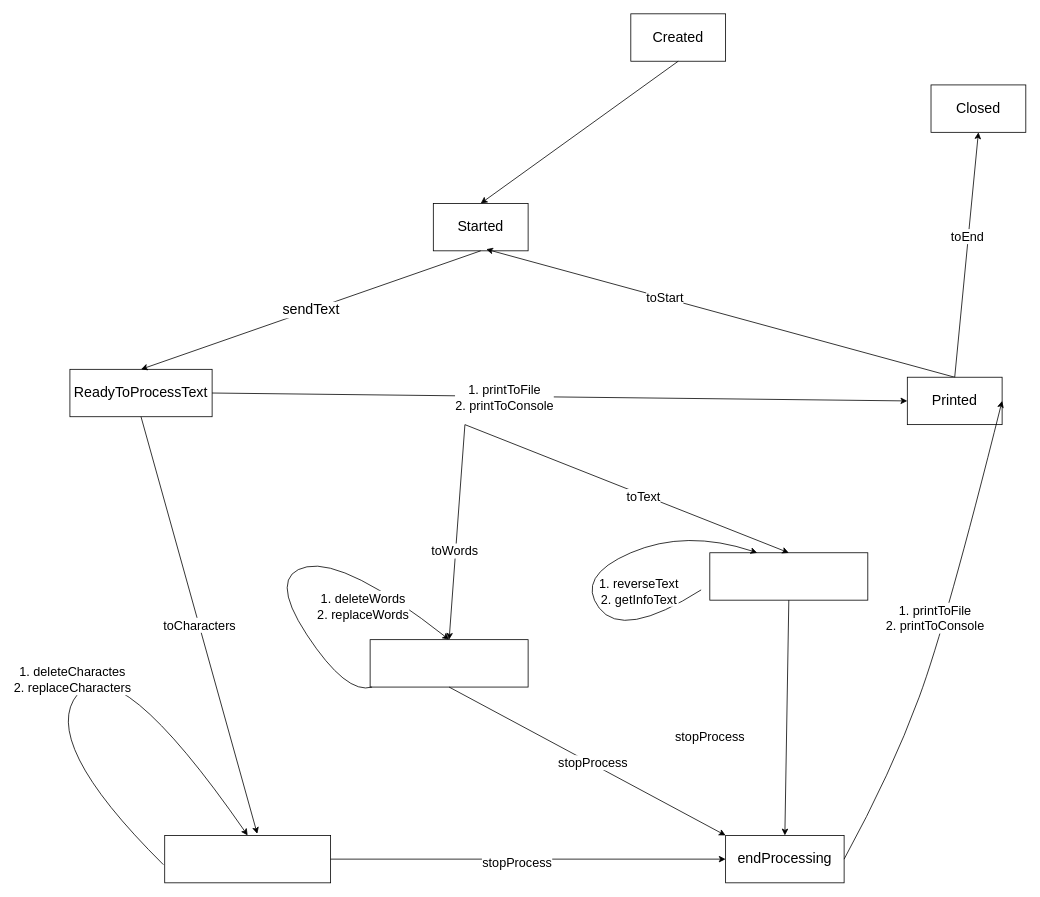
The diagram is 1040 pixels wide and 897 high, and some of its shapes have lost their labels. Here are the shapes that lost their labels. From the top down, the centre of each, then its label:
At [788,576]: "TextProcessing".
At [448,663]: "WordProcessing".
At [247,859]: "CharacterProcessing".
